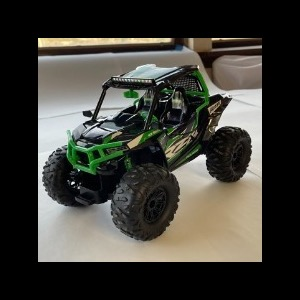polaris: (42, 64, 252, 243)
